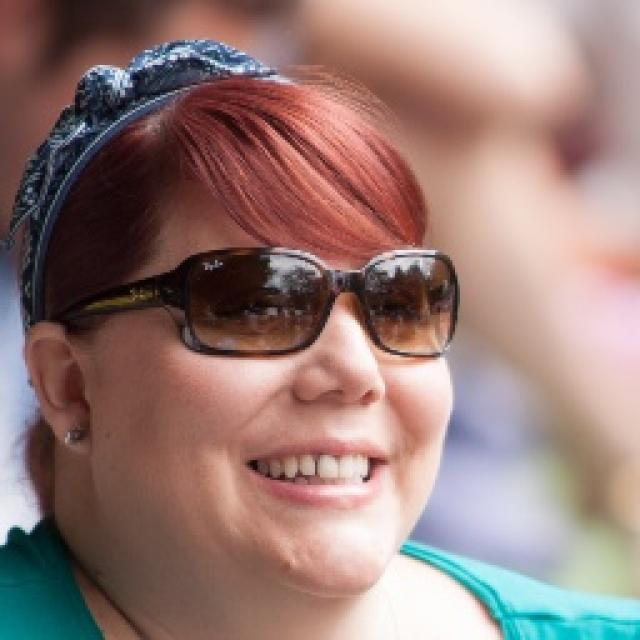earlobe: (61, 408, 92, 456)
eye: (219, 289, 295, 324), (373, 298, 424, 325)
nose: (310, 394, 371, 434)
wholeear: (22, 321, 93, 456)
